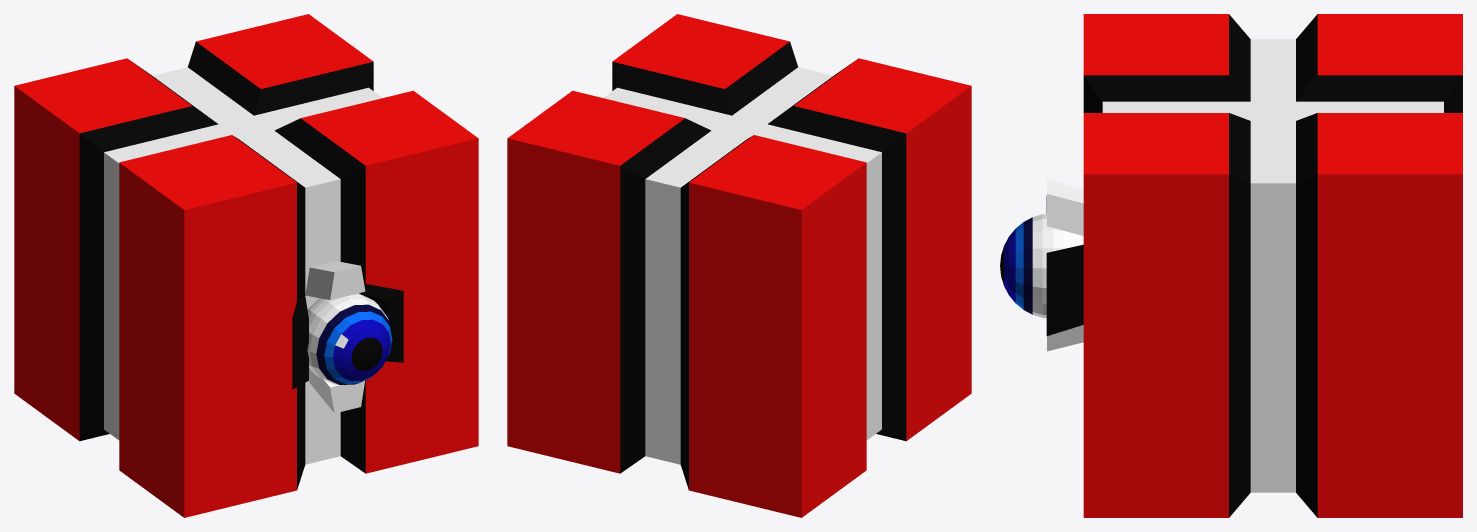
The model's file is red_cubo_bot.fbx.
3 views of the same model, side by side, from view 1: azimuth 30°, elevation 25°; view 2: azimuth 150°, elevation 25°; view 3: azimuth 270°, elevation 25° (orthographic). The views are drawn at different scales.
Visible parts, largest first — view 1: bot, eye; view 2: bot; view 3: bot, eye.
Boxes of the visible parts, left/top/right/bottom form: bot: left=14, top=14, right=478, bottom=517; eye: left=307, top=293, right=392, bottom=384; bot: left=507, top=14, right=971, bottom=517; bot: left=1046, top=14, right=1462, bottom=517; eye: left=1000, top=213, right=1083, bottom=318.
Bounding box in the file's own units: 200 × 200 × 244.
